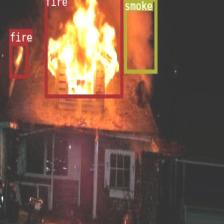fire: (44, 0, 122, 97), (8, 42, 28, 77)
smoke: (123, 0, 156, 72)
